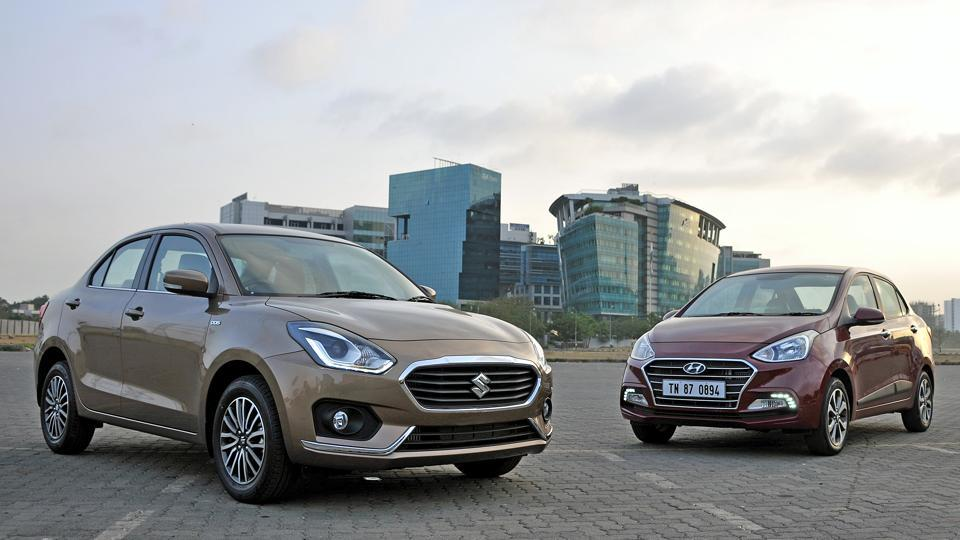car: (27, 216, 552, 487), (616, 263, 940, 446)
